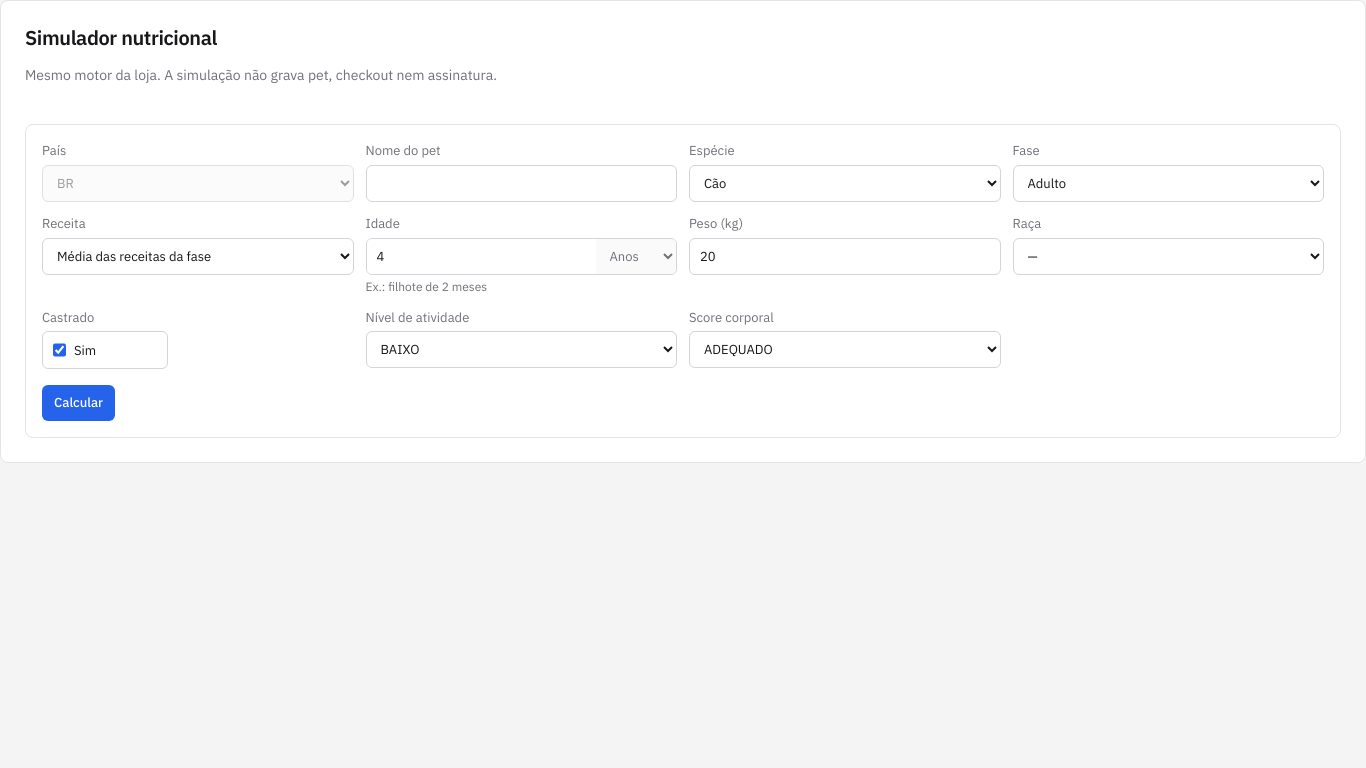
it: NutritionSimulatePage › sends age in months and localizes BR fields
The width and height of the screenshot is (1366, 768).
Expected: the button "Calcular" is shown, [42,385,115,421]
Expected: the dropdown labelled "País" shows "BR", [42,164,354,202]
Select "Meses" in the dropdown named "Unidade da idade": coordinates (636, 256) [596,238,676,274]
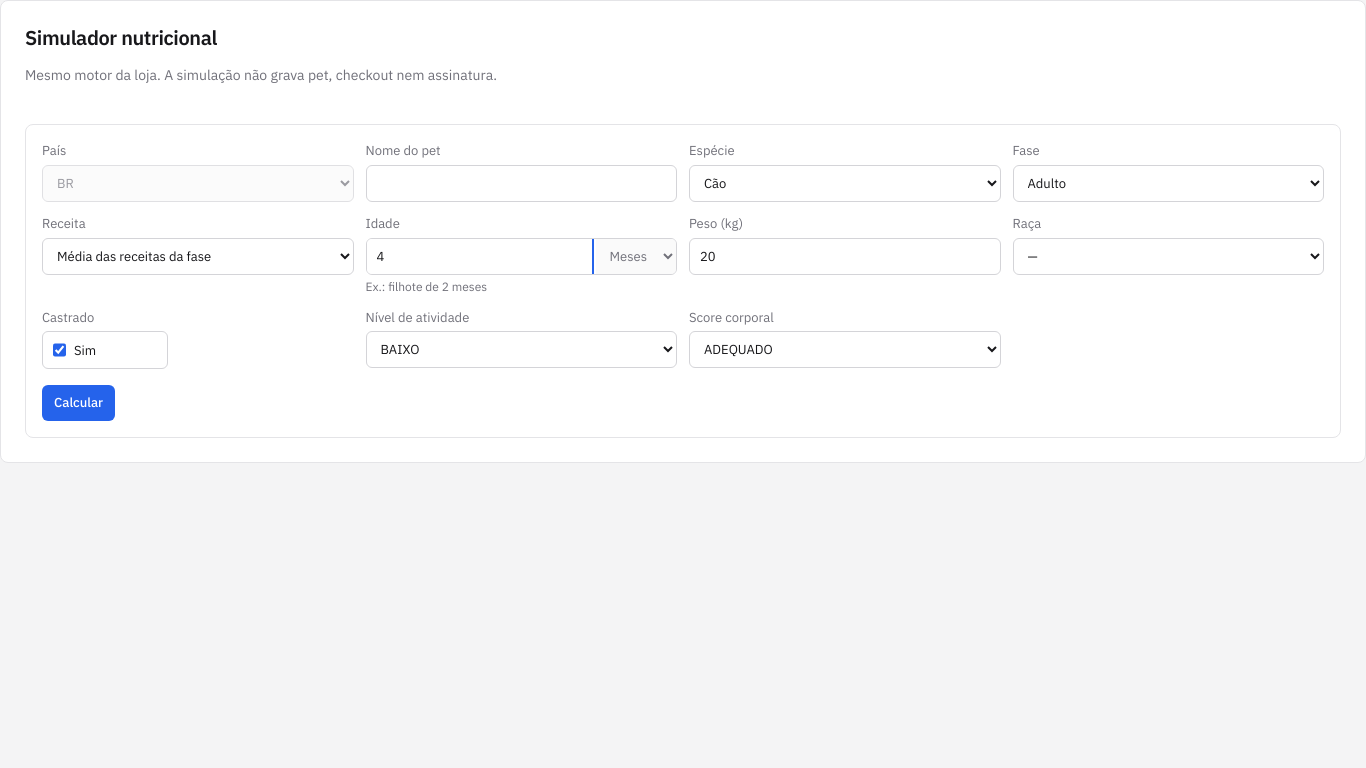
Replace the text in the number field labelled "Idade" with "2": coordinates (481, 256) [366,238,596,274]
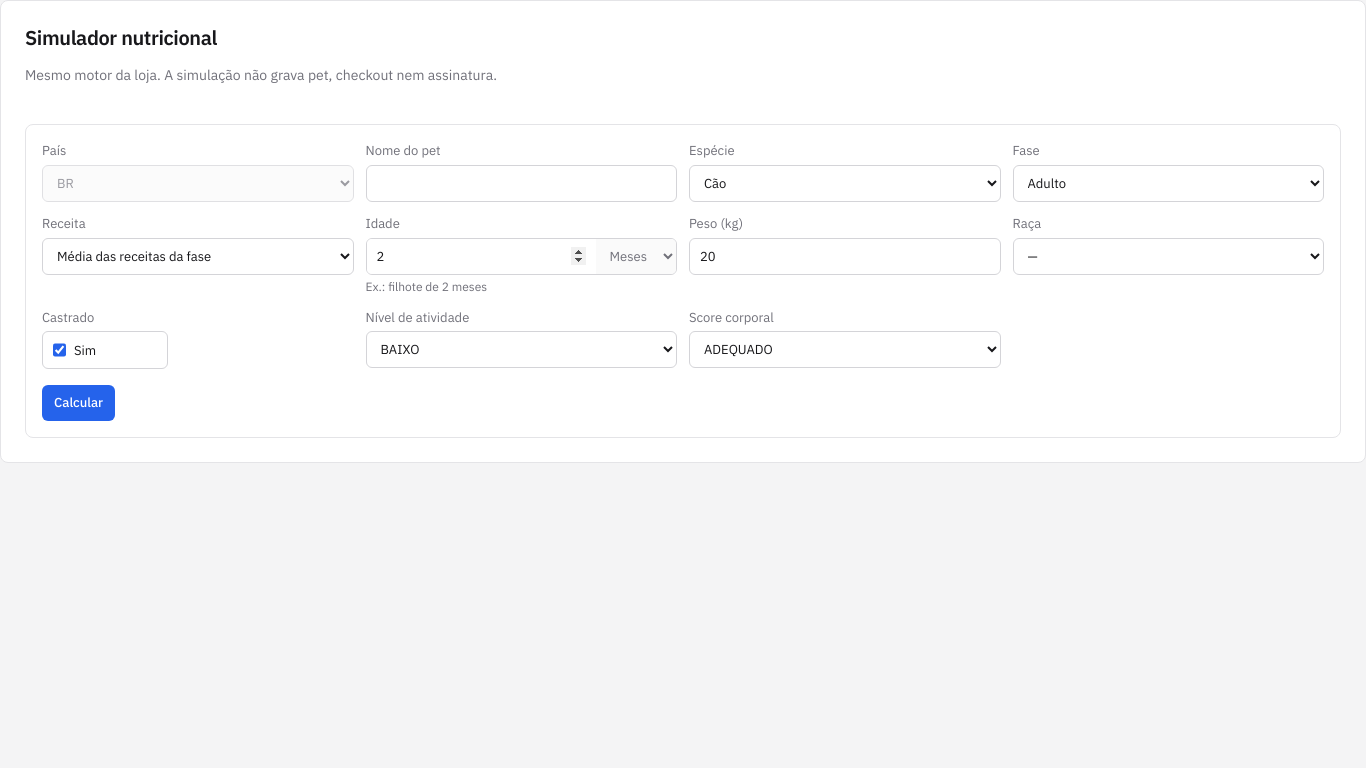
Click the button "Calcular": coordinates (79, 403) [42,385,115,421]
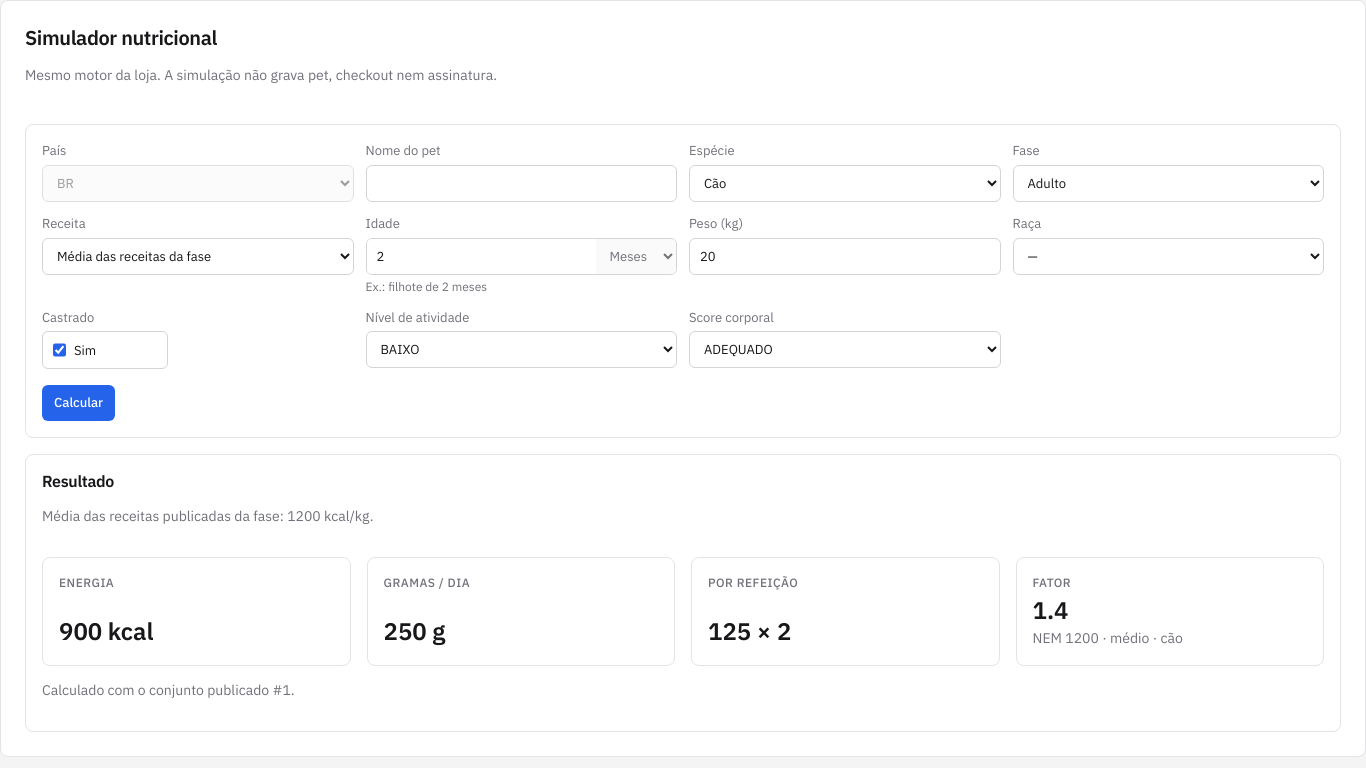
Expected: the text "900 kcal" is shown, [59,615,154,647]
